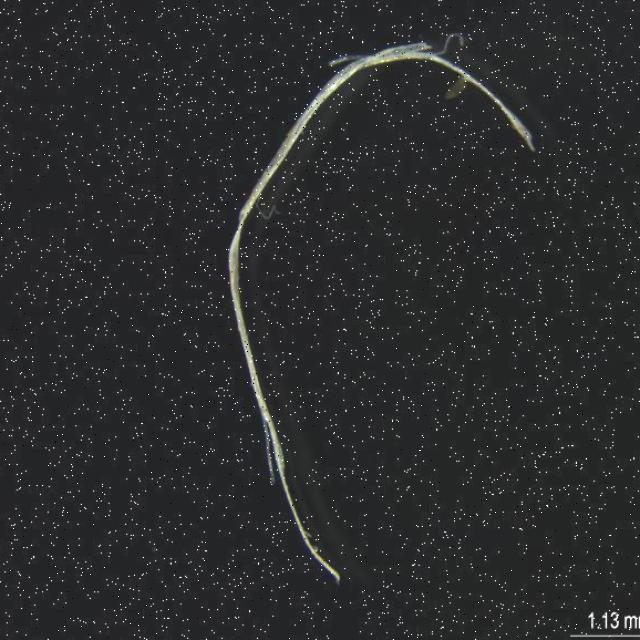Fibre: (227, 38, 538, 592)
